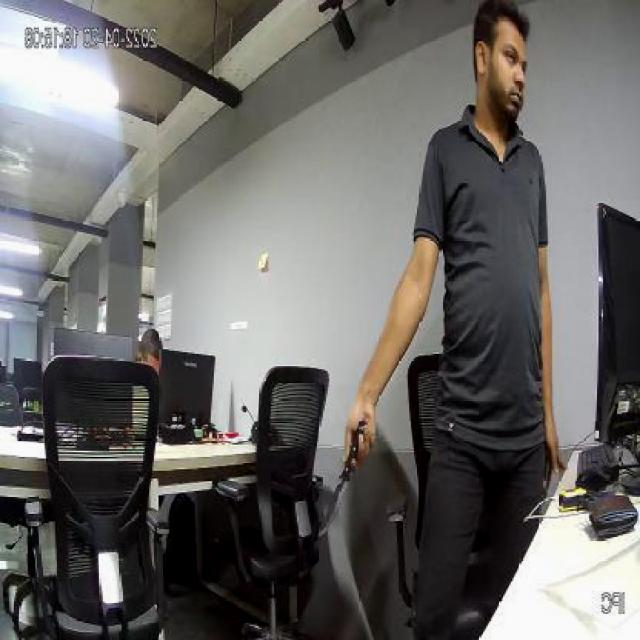knife: (314, 446, 357, 549)
